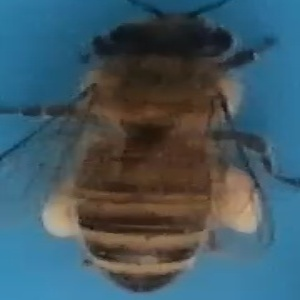bee: (5, 4, 292, 298)
